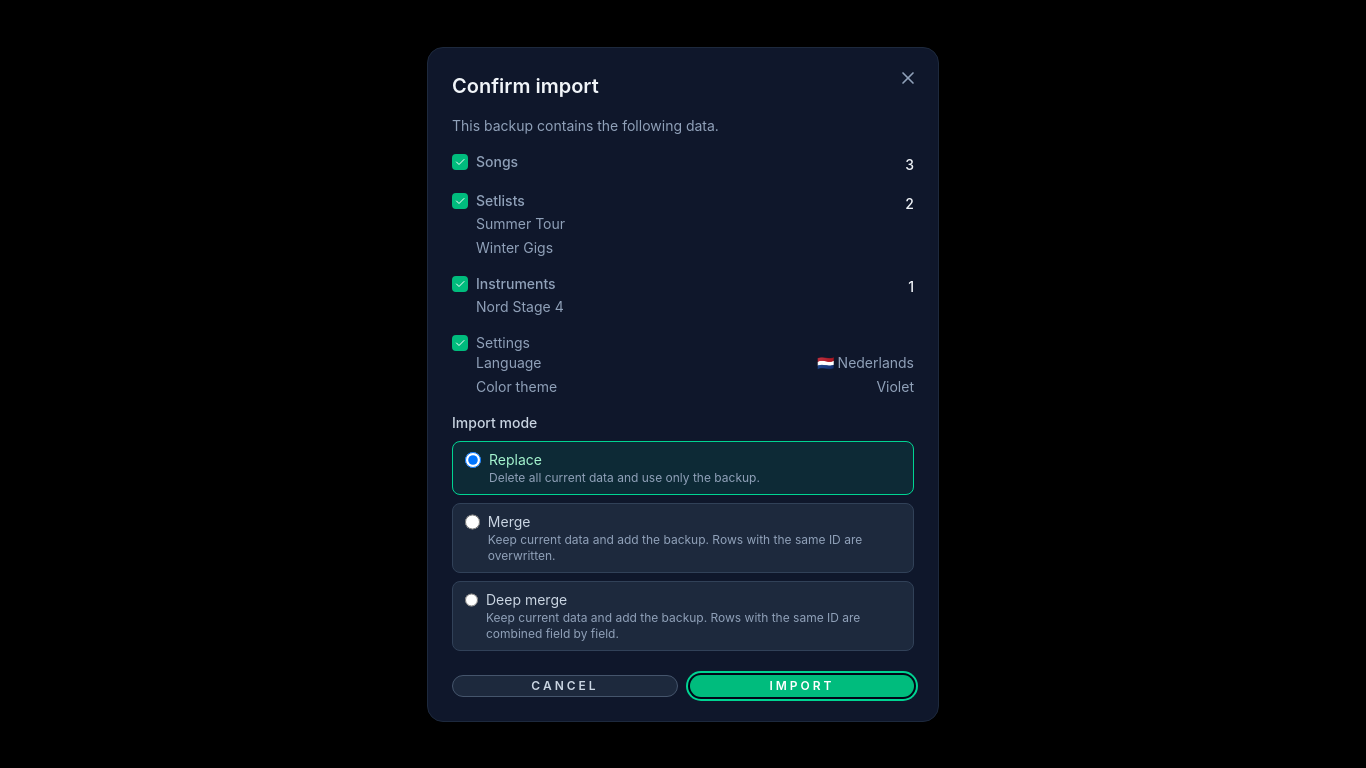
Test: ImportSummaryDialog › selecting what to import › disables importing when nothing is selected
The width and height of the screenshot is (1366, 768).
Expected: the list item "Nord Stage 4" is shown, [476,298,564,314]
What coordinates should you click on to do the following:
click the checkbox labelled "Songs"
I would click on:
 (460, 162)
Its box is [452,154,468,170].
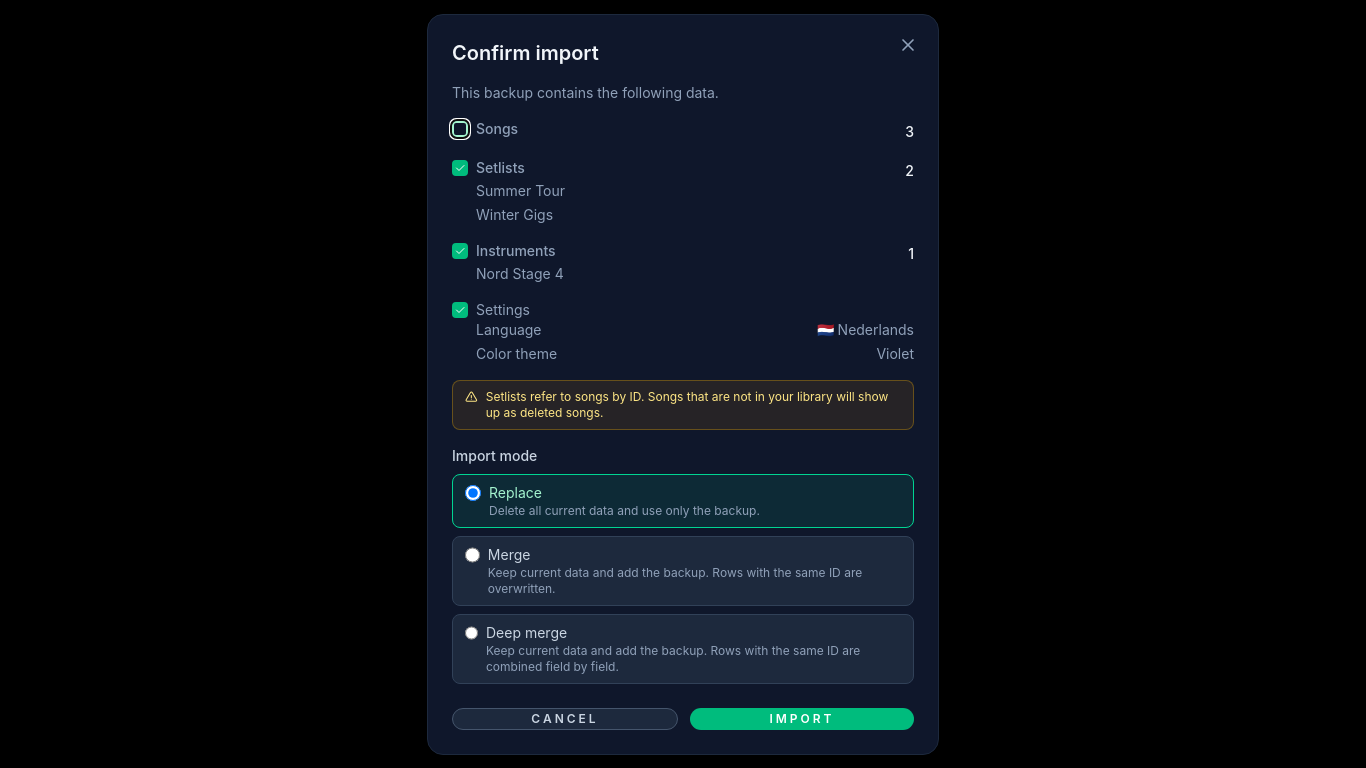
What coordinates should you click on to do the following:
click the checkbox labelled "Setlists"
I would click on:
 (460, 168)
Its box is [452,160,468,176].
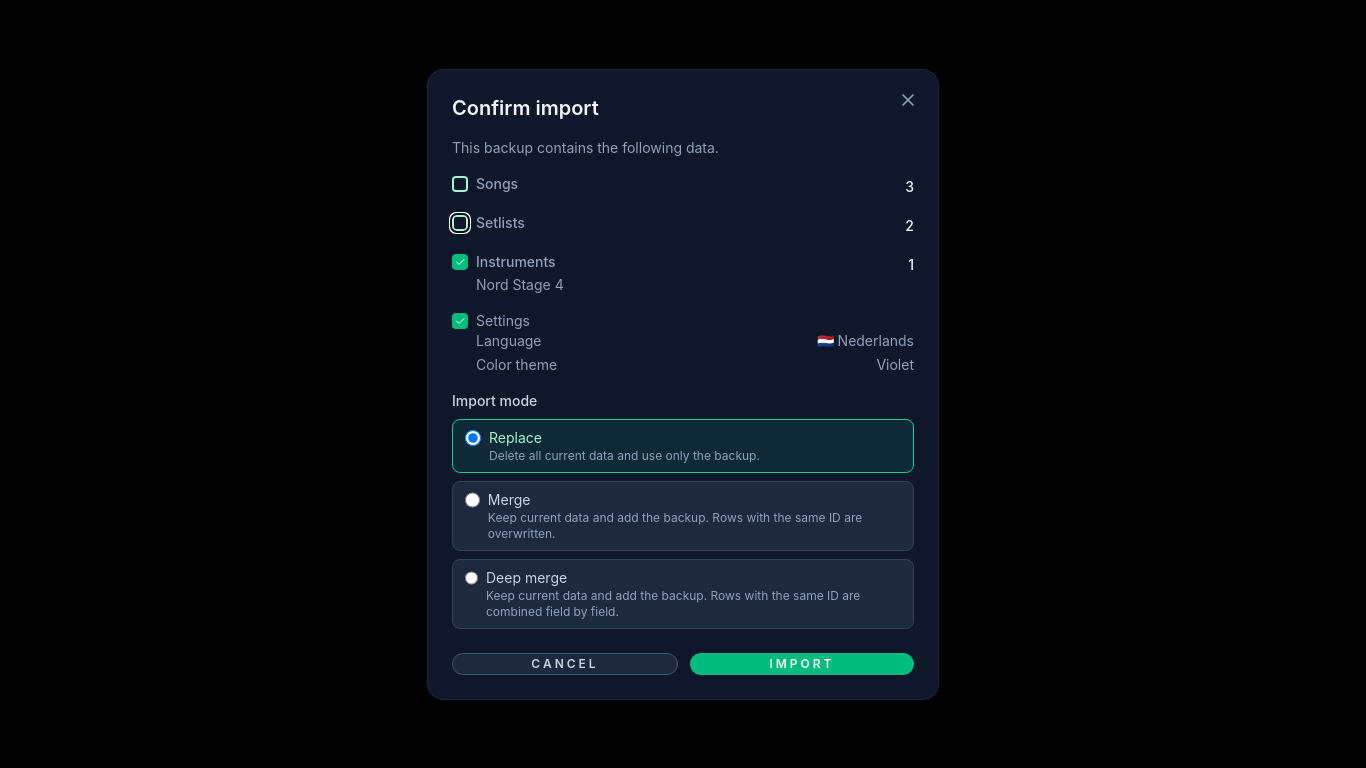
What coordinates should you click on to do the following:
click the checkbox labelled "Instruments"
I would click on:
 (460, 262)
Its box is [452,254,468,270].
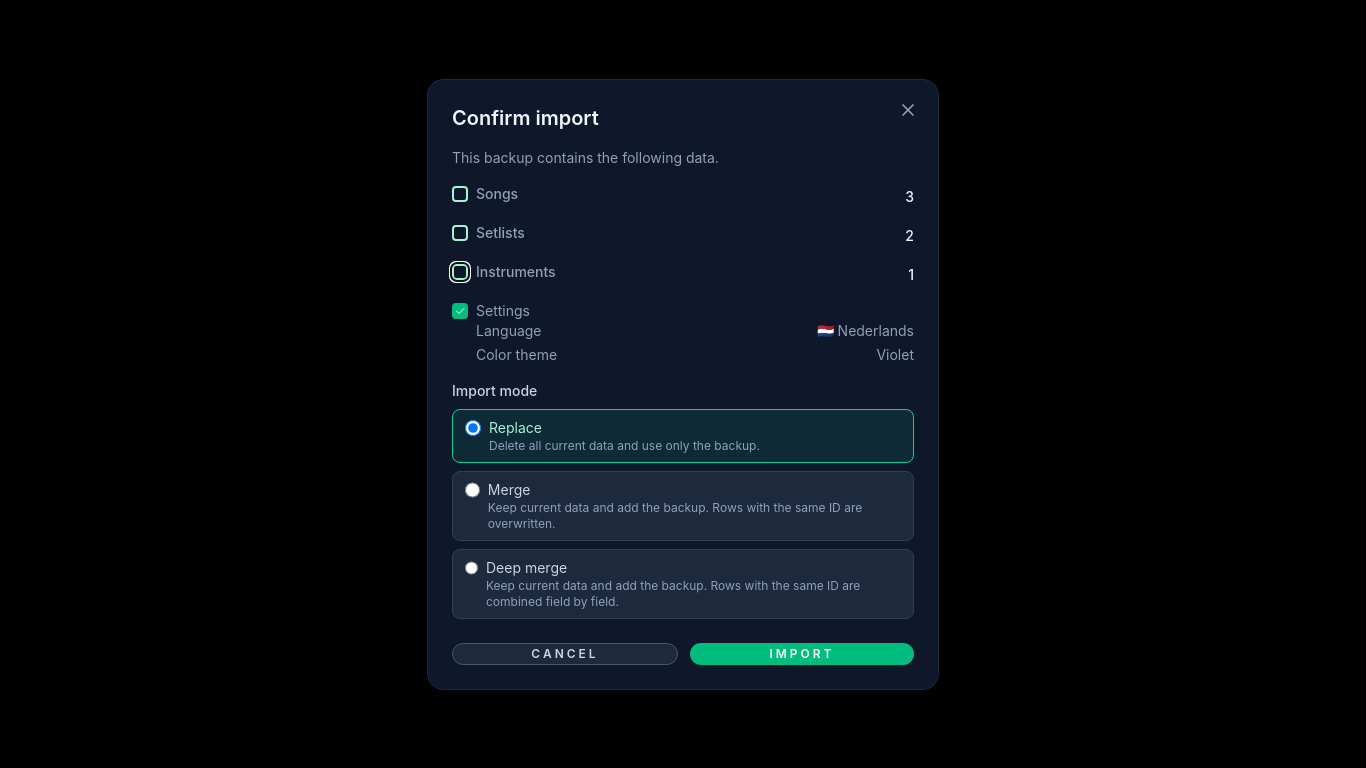
What coordinates should you click on to do the following:
click the checkbox labelled "Settings"
I would click on:
 (460, 310)
Its box is [452,302,468,318].
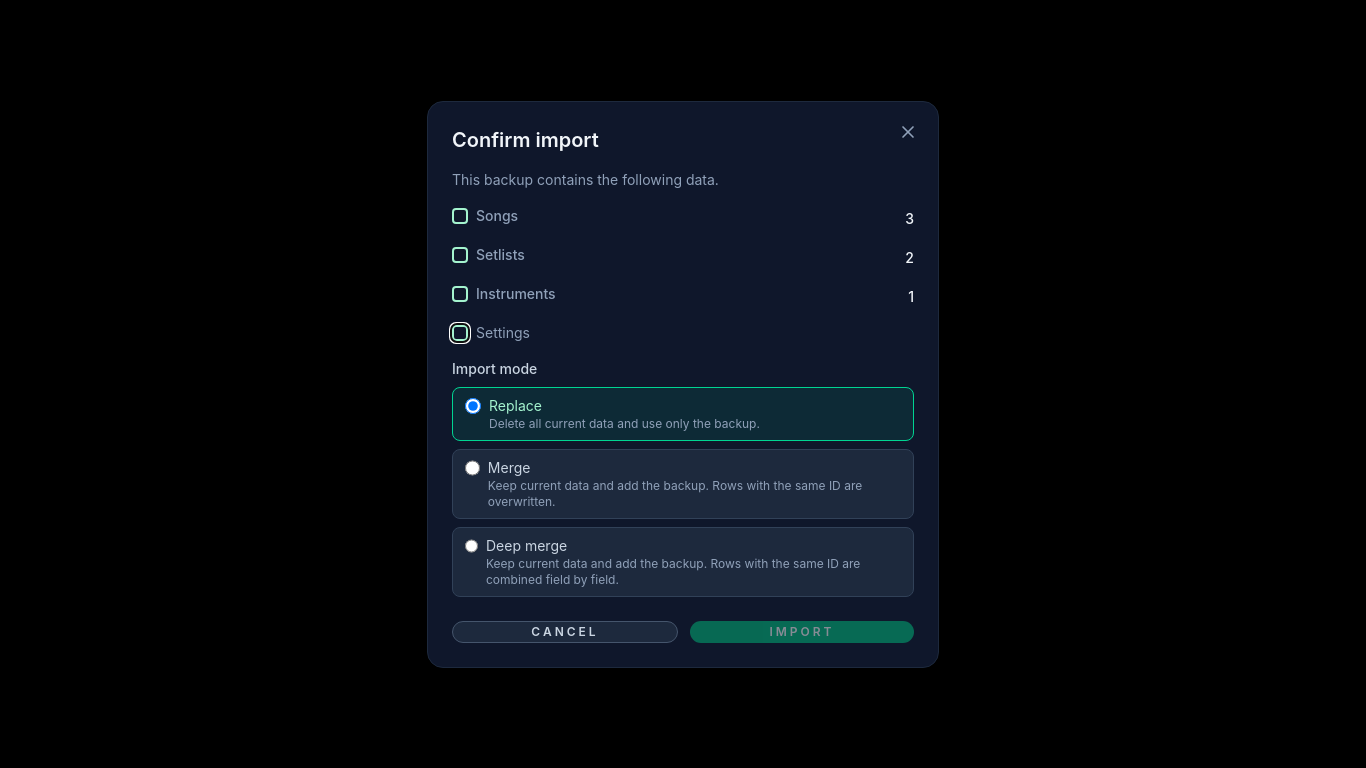
Now the button "Import" is disabled, box [690,620,914,642]
